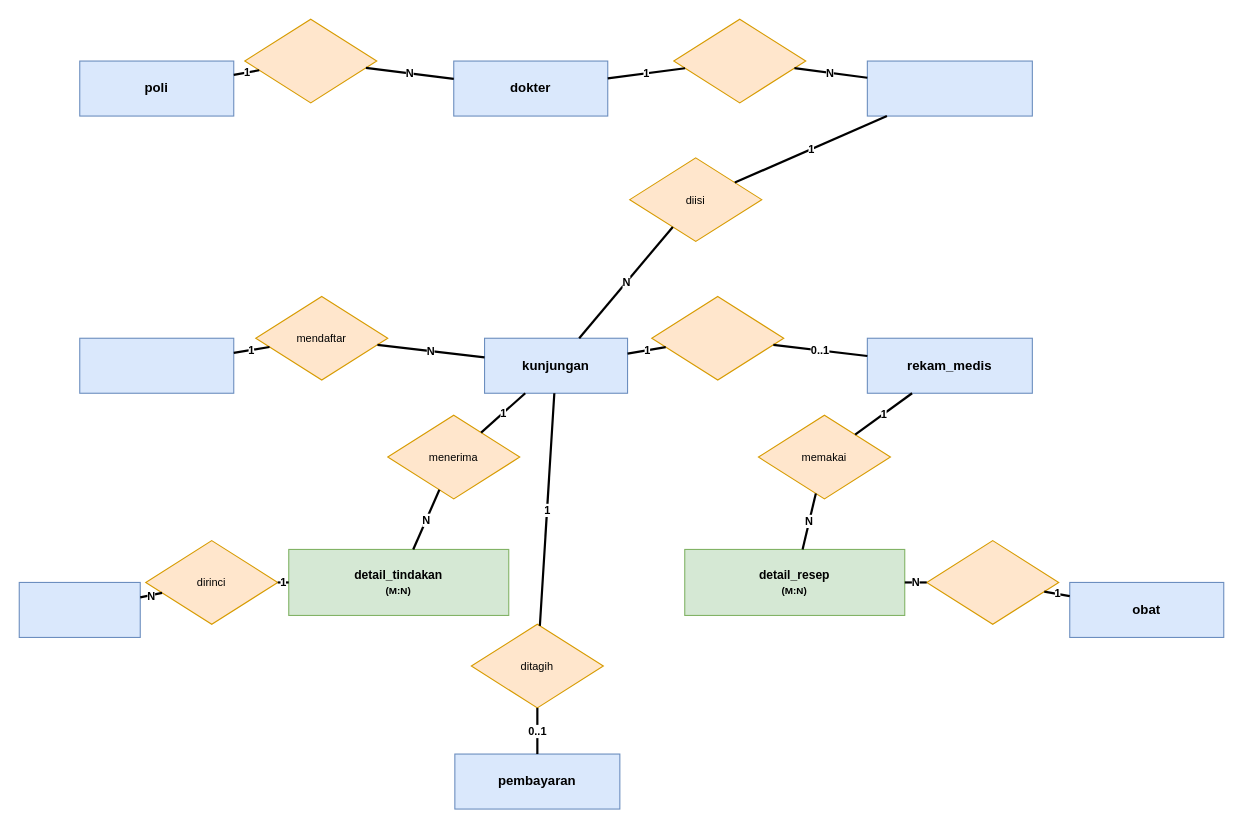
Some shapes in this 1243 by 828 pixel diagram are drawn without their labels. The shapes that lost their labels are listed below. From the top down, each one's box as (x1, y1, x2, y2) in pixels, then its label:
(244, 18, 377, 103): memiliki
(673, 18, 806, 103): punya
(866, 60, 1032, 116): jadwal_praktik
(651, 295, 784, 380): menghasilkan
(79, 337, 234, 393): pasien
(926, 540, 1059, 624): diambil dari
(18, 581, 140, 637): tindakan
